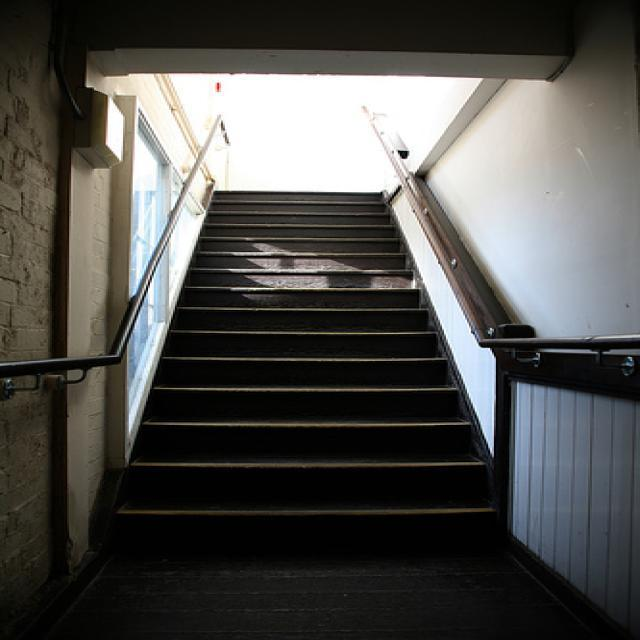stairs: (110, 187, 502, 552)
